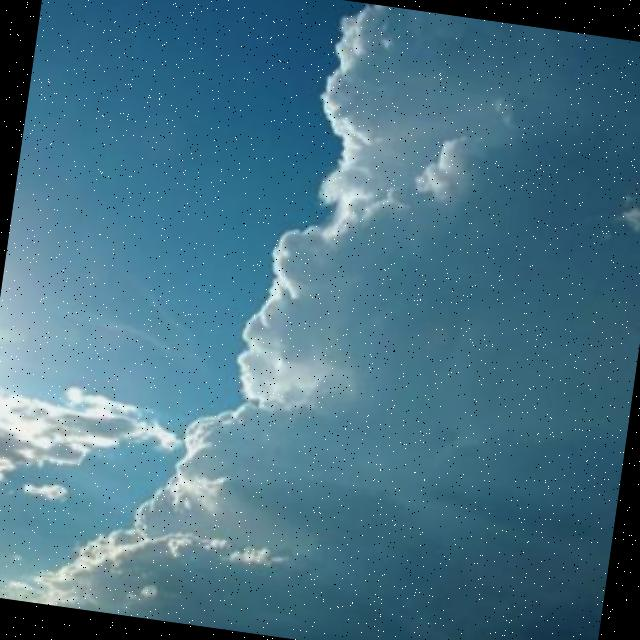Cb: (1, 154, 640, 640)
